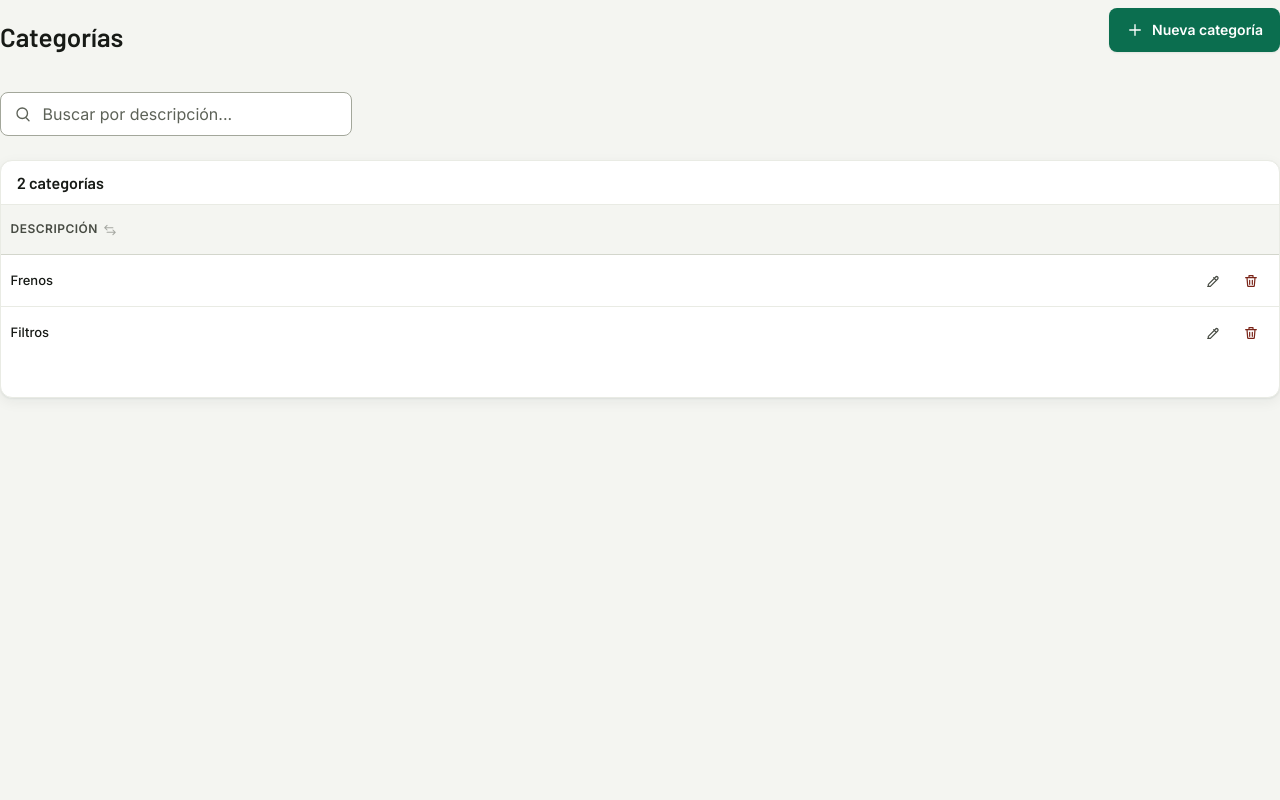
Test: CategoriasPage › pide confirmación antes de eliminar y luego elimina la fila
Expected: the text "Frenos" is shown, 1,255 -> 1185,307
Click the button named "eliminar" in the row of "Frenos". click: (1251, 281)
box: 1233,263 -> 1269,299
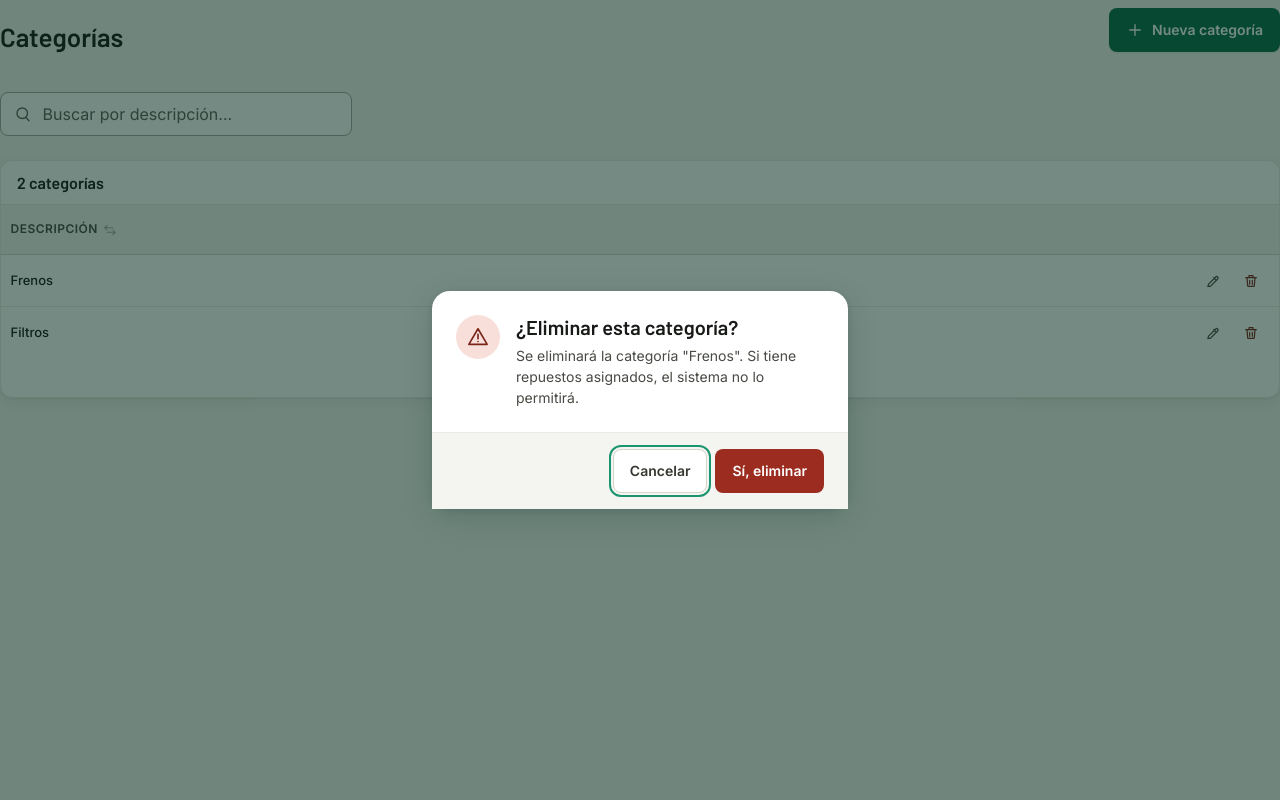
Click the button "Sí, eliminar". click: (770, 471)
box: 716,449 -> 824,493
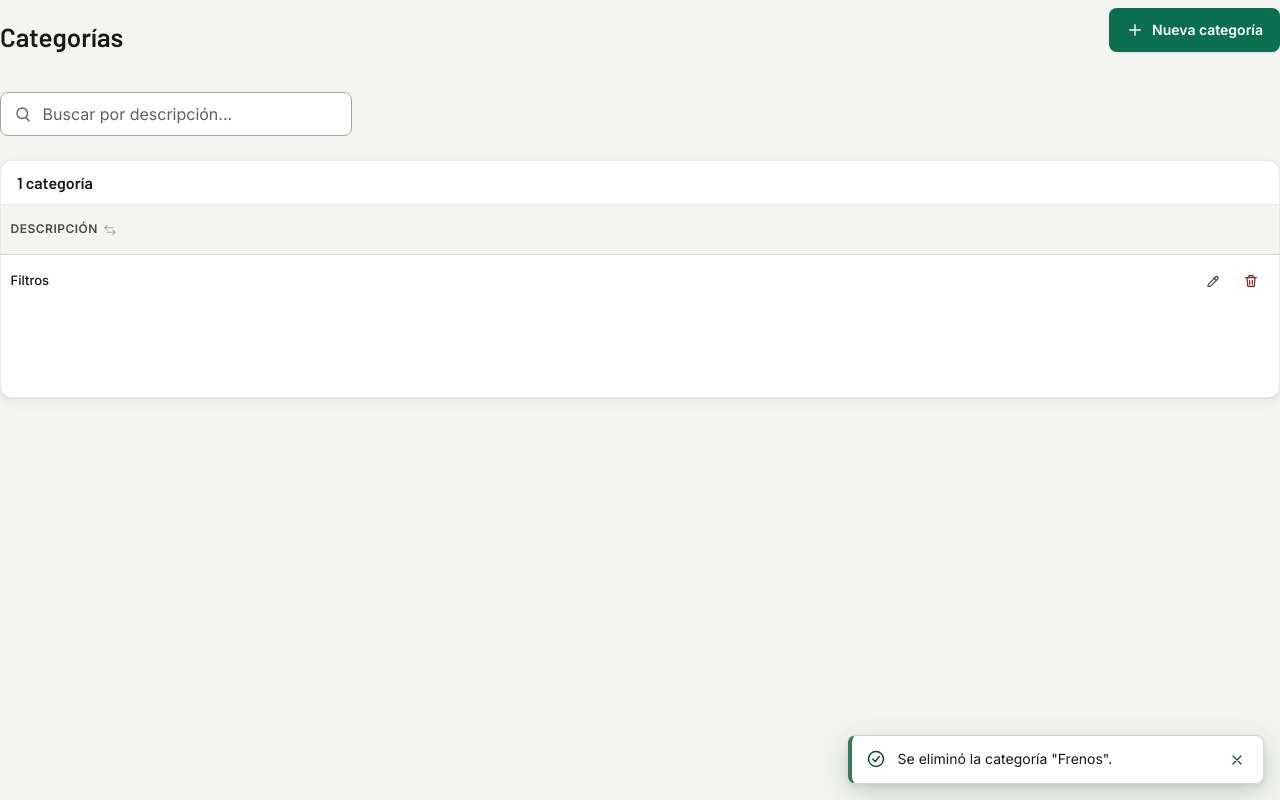
Expected: the message shows "Se eliminó la categoría \"Frenos\"", 898,750 -> 1112,767
